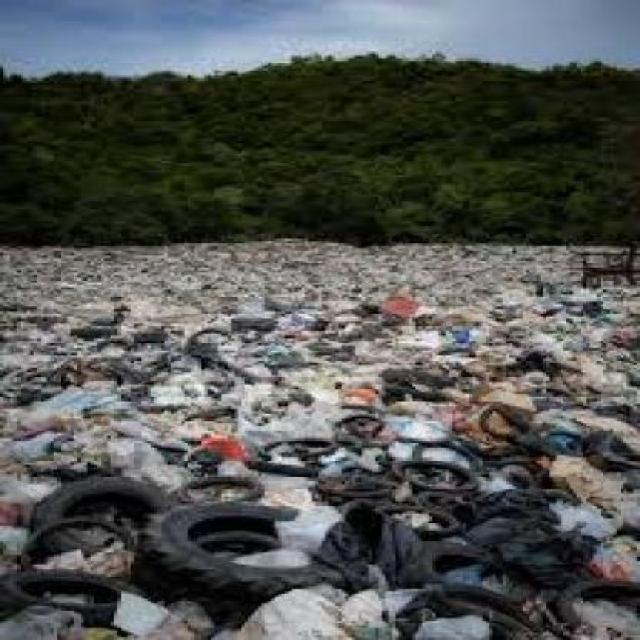garbage: (0, 242, 637, 639)
